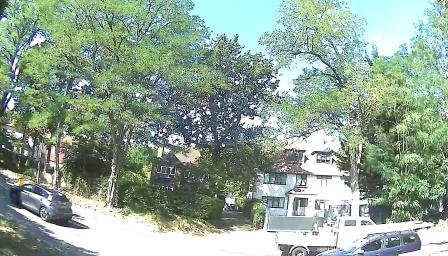Cars: (273, 210, 385, 250), (11, 170, 76, 228), (305, 232, 443, 256)
